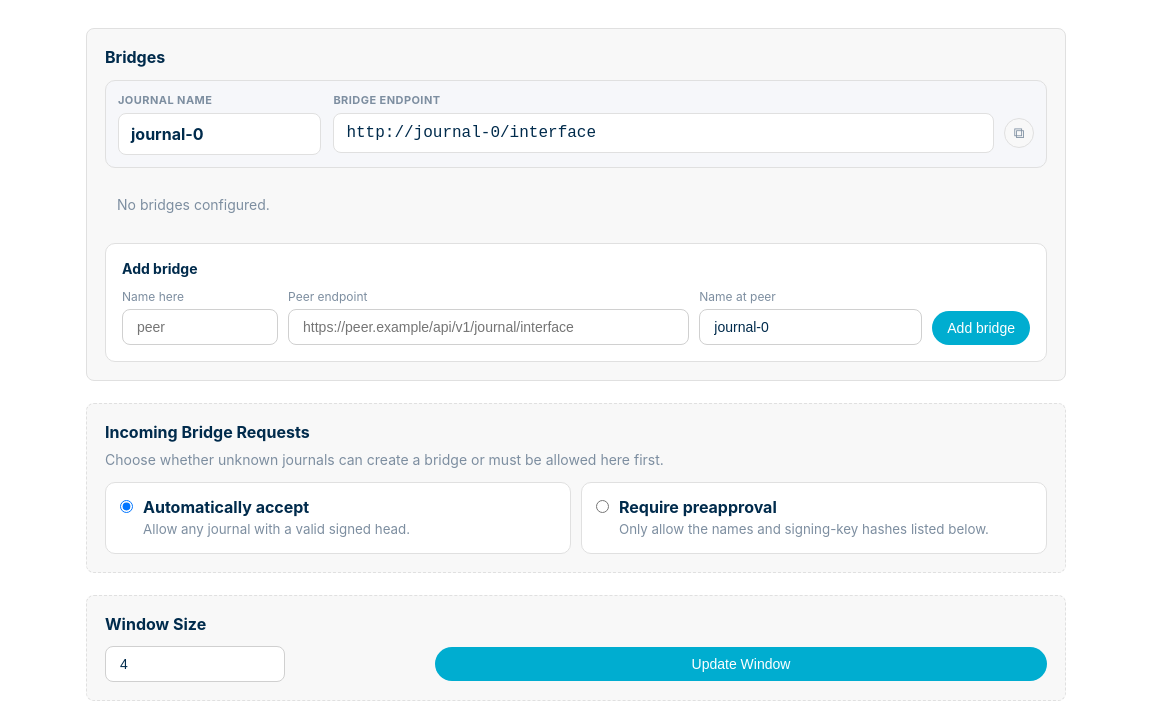
AdminPanel › treats a false mutation result as failure and preserves its form
In the field with placeholder "peer": (200, 327) [122,309,278,345], type "beagle"
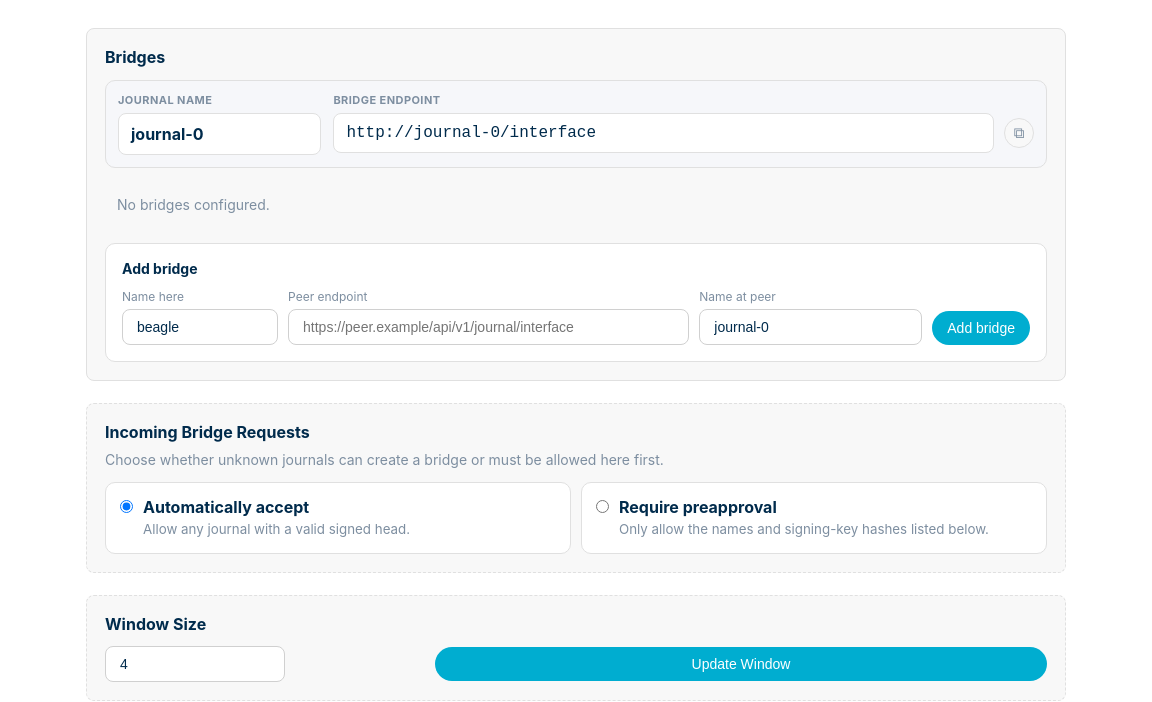
In the field with placeholder "https://peer.example/api/v1/journal/interface": (489, 327) [288,309,689,345], type "https://beagle/interface"
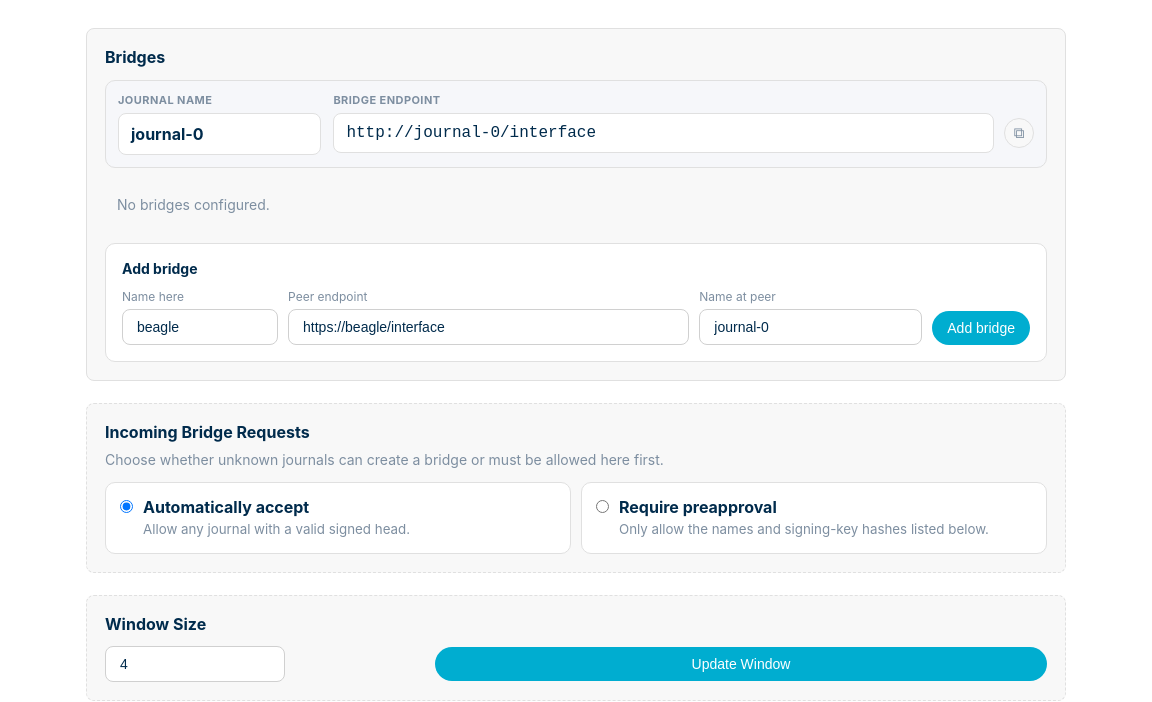
Click the button "Add bridge": (981, 328) [932,311,1030,345]
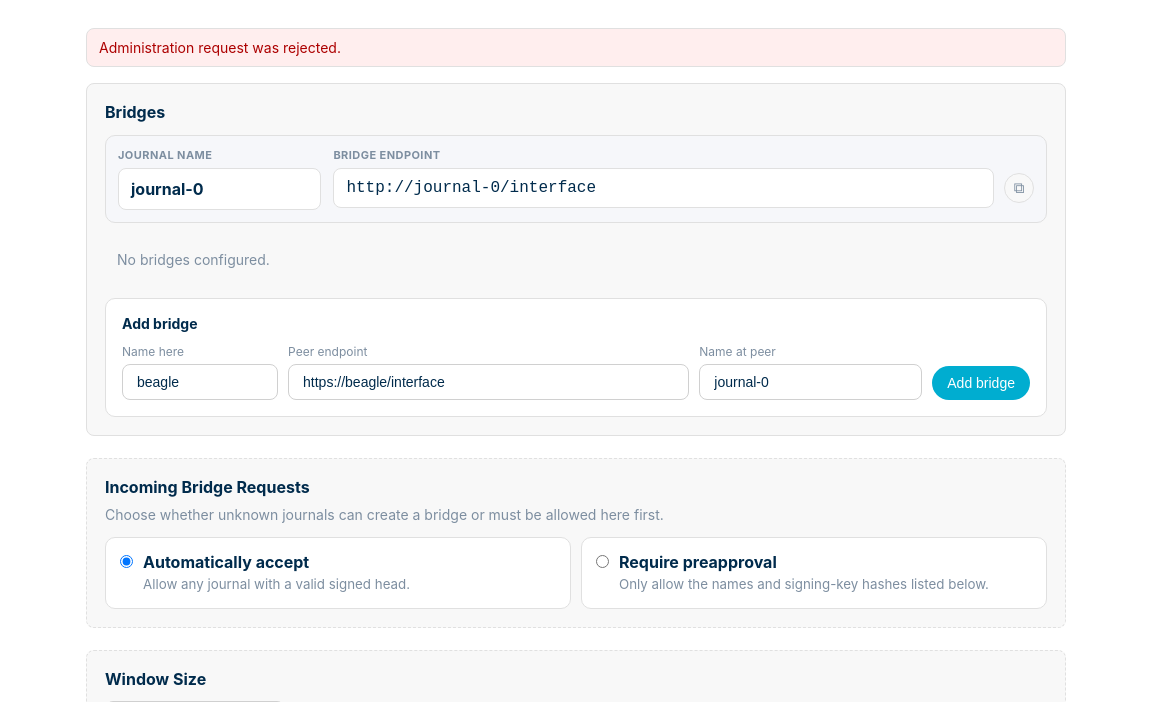
Result: the text "Administration request was rejected." is shown at [86,28,1066,67]
